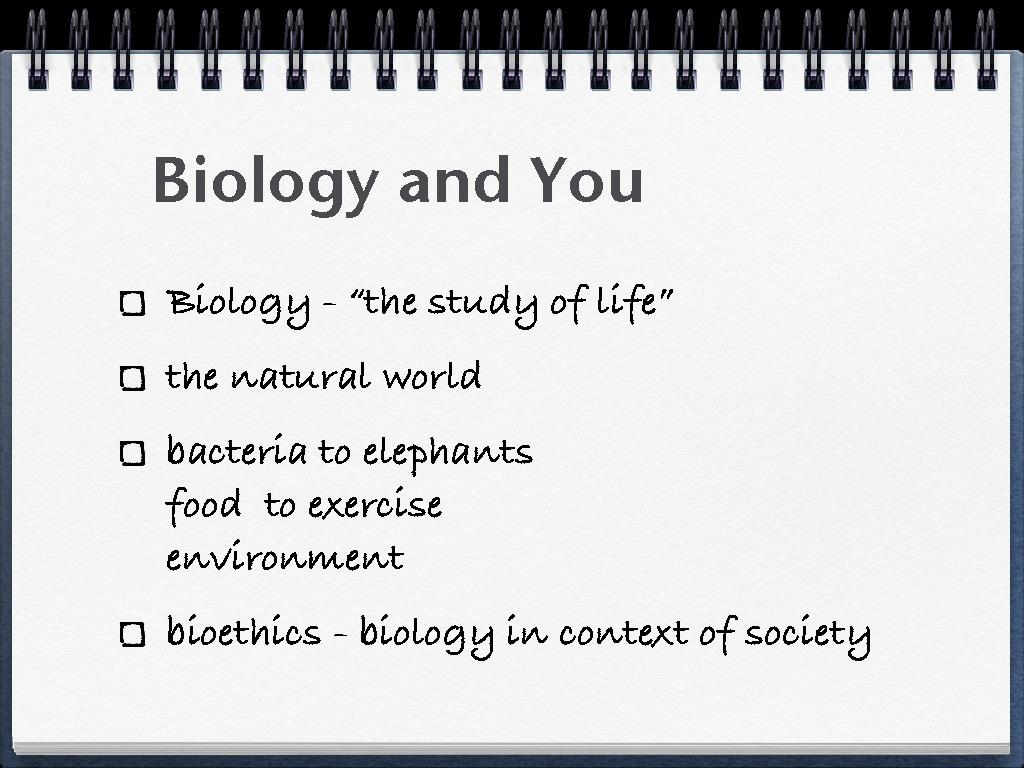paragraph: (100, 261, 885, 672)
title: (135, 136, 652, 226)
